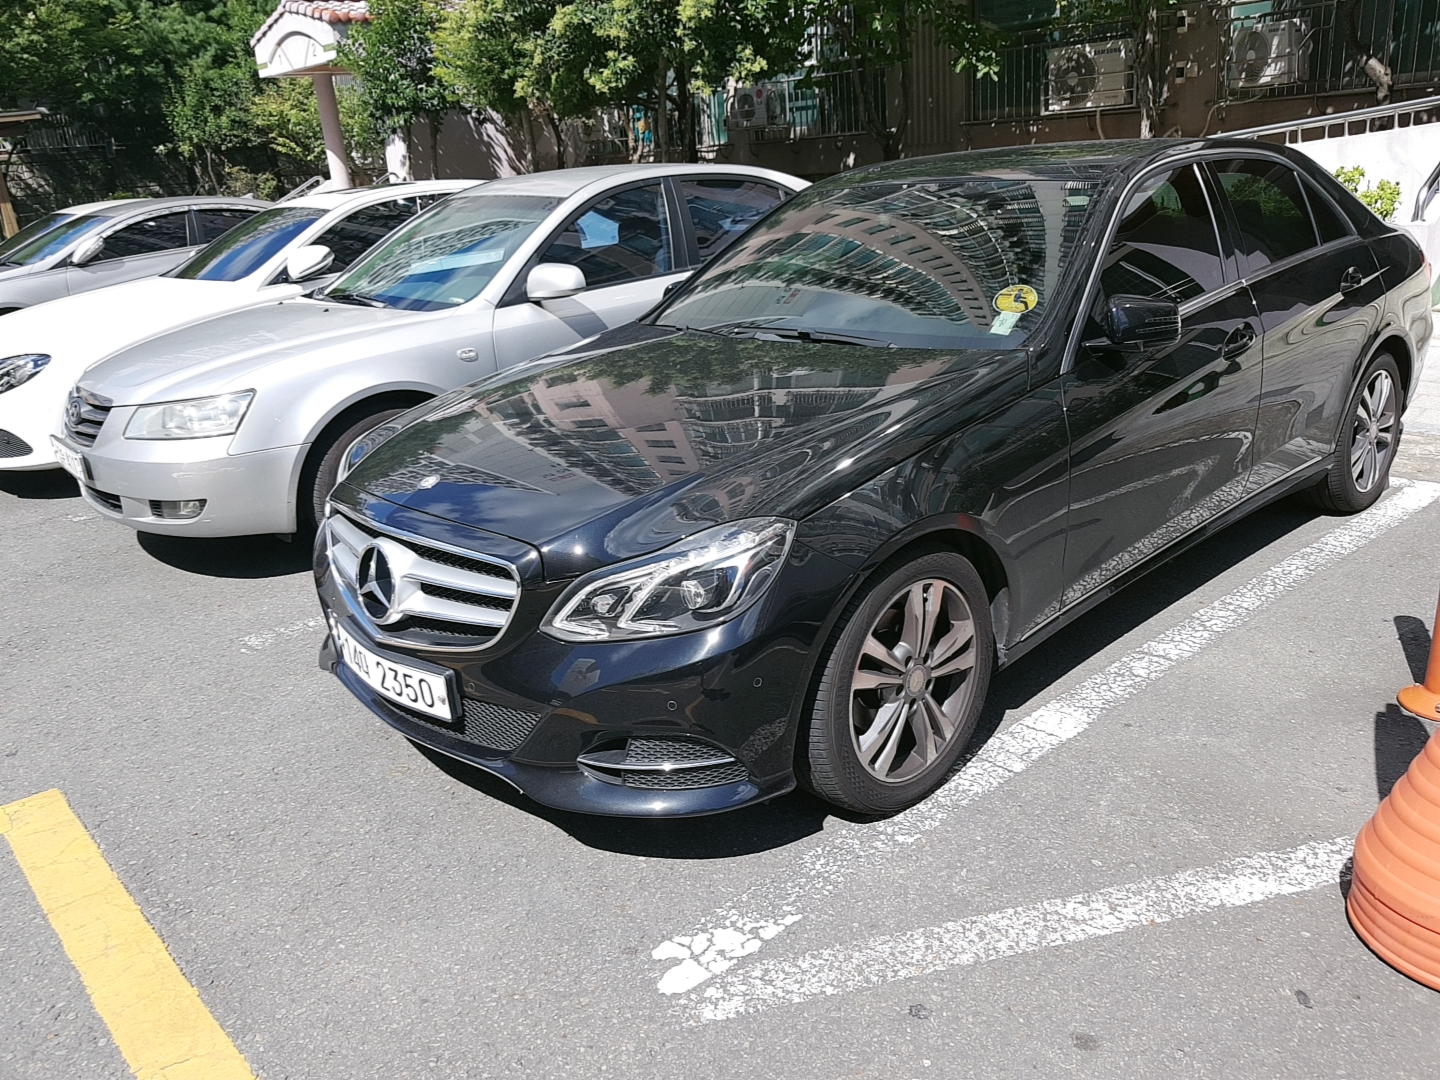disabled_parking: (993, 282, 1040, 315)
etc: (989, 311, 1023, 337)
